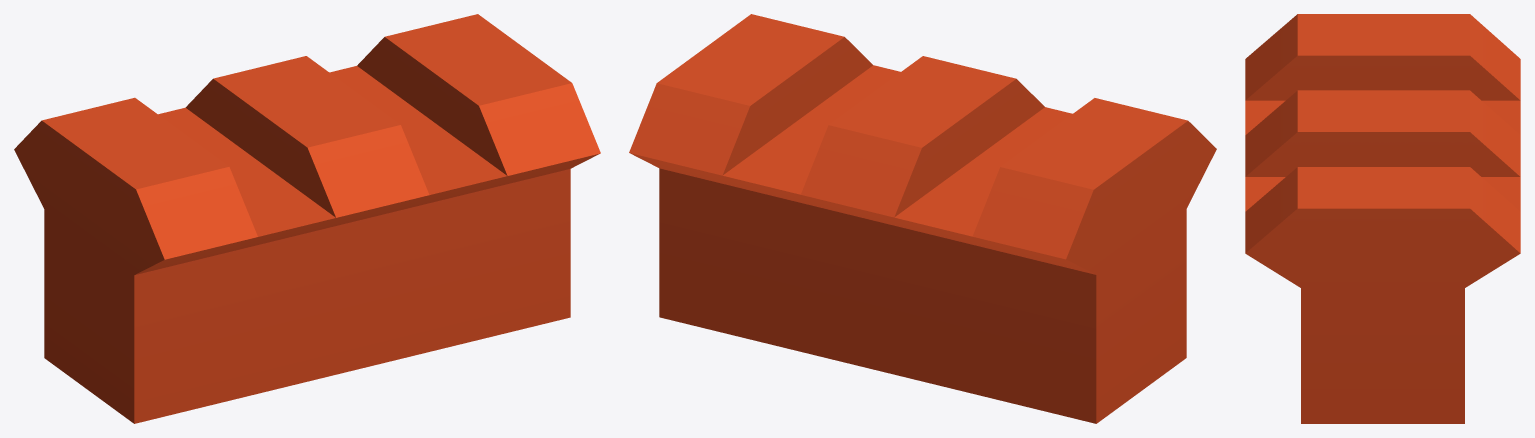
File: Bar_05.fbx
3 renders of one model, left to right at view 1: azimuth 30°, elevation 25°; view 2: azimuth 150°, elevation 25°; view 3: azimuth 270°, elevation 25°, orthographic. The views are drawn at different scales.
Parts seen in each view (by area): view 1: Bar_05; view 2: Bar_05; view 3: Bar_05.
Boxes of the visible parts, x1,y1,x2,y2 form: Bar_05: (14, 14, 600, 423); Bar_05: (629, 14, 1216, 423); Bar_05: (1245, 14, 1520, 423).
Size of the model in its own units: 4.35 by 2.24 by 2.6.
